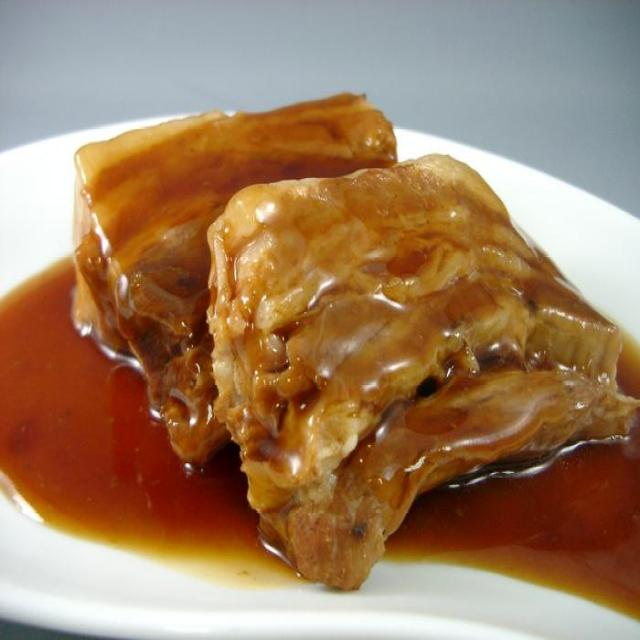猪肉菜式: (51, 85, 640, 600)
